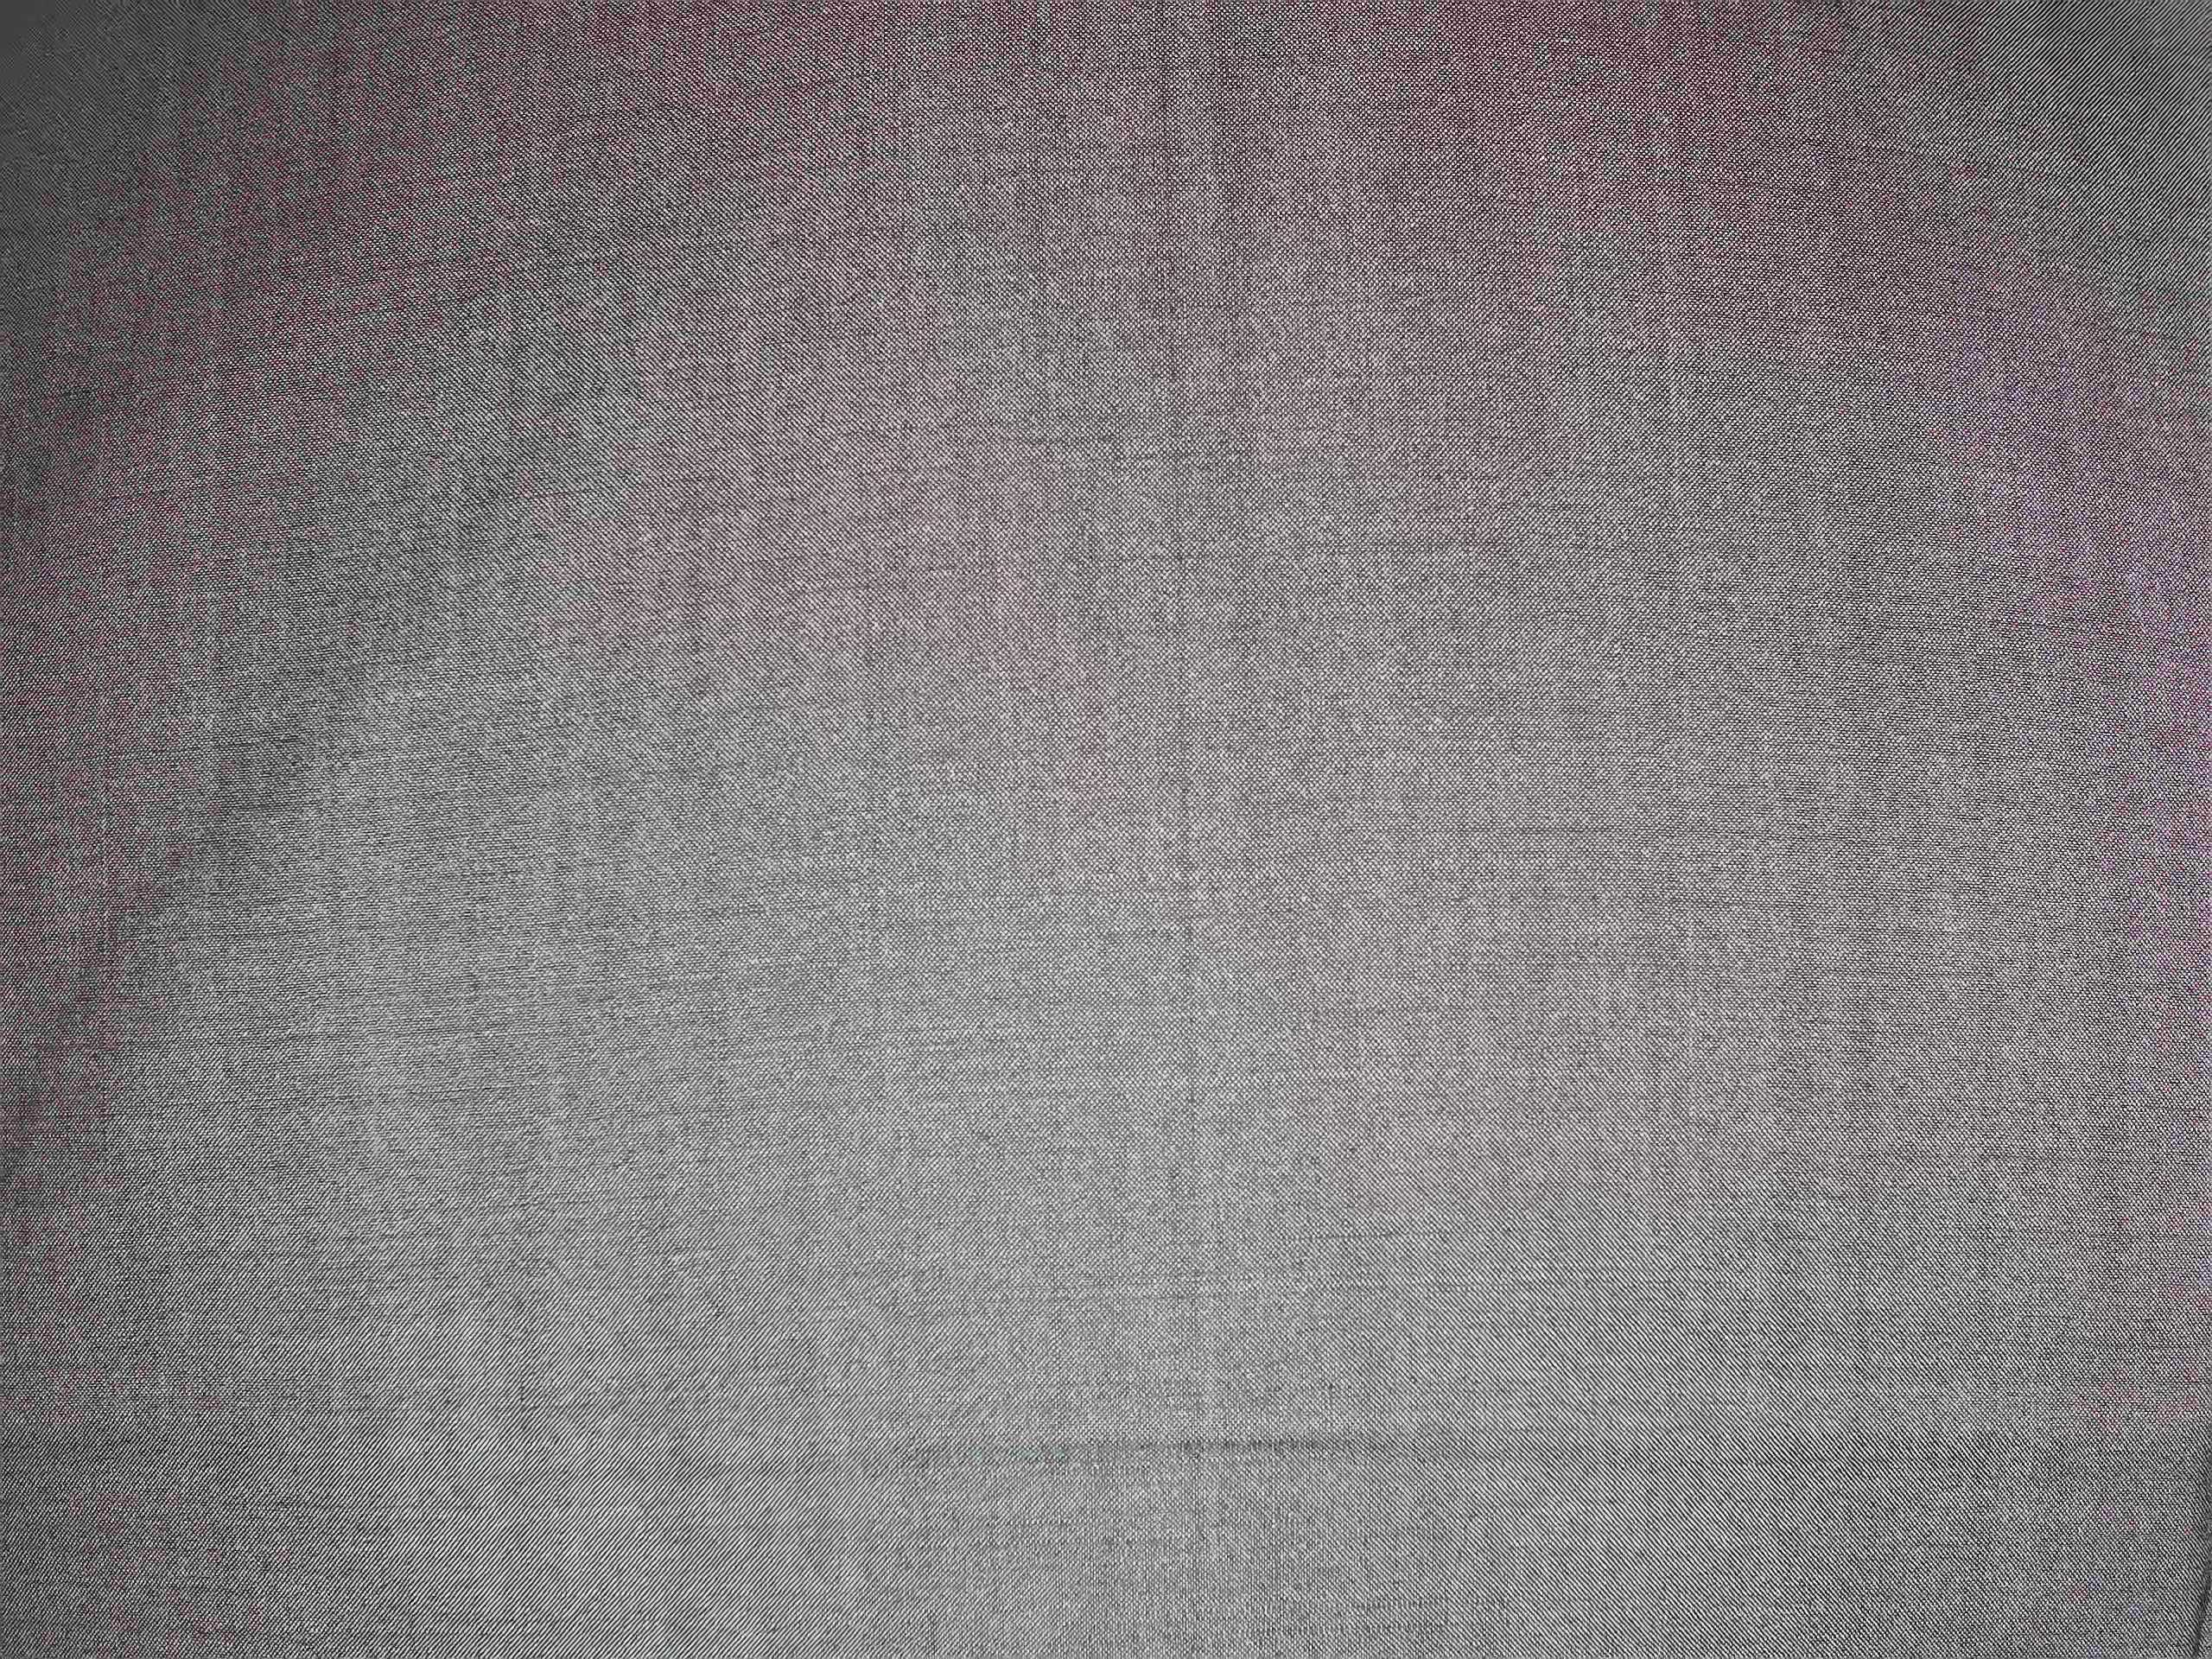hanging-warp: (1139, 2, 1214, 1473)
